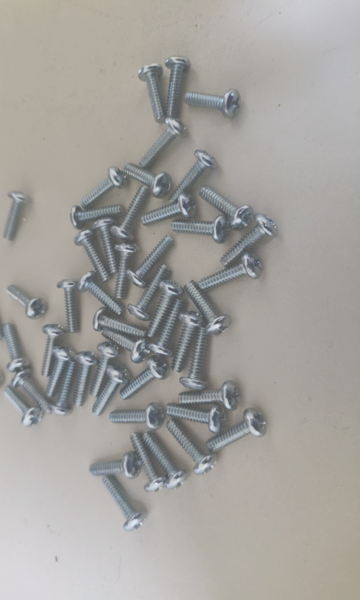shortscrew: (221, 213, 280, 269), (166, 418, 218, 476), (169, 149, 218, 204), (184, 280, 232, 336), (127, 264, 173, 322), (139, 117, 189, 170), (207, 408, 267, 452), (143, 431, 187, 490), (102, 476, 148, 532), (198, 252, 262, 292), (127, 235, 174, 289), (200, 186, 254, 231), (148, 297, 187, 359), (111, 186, 151, 243), (120, 357, 171, 401), (129, 433, 167, 492), (111, 186, 150, 243), (147, 280, 183, 339), (78, 271, 125, 316), (172, 311, 206, 373), (81, 166, 128, 210), (93, 364, 131, 418), (74, 230, 112, 282), (180, 327, 210, 391), (141, 192, 197, 226), (12, 370, 54, 415), (179, 381, 241, 411), (123, 162, 173, 199), (101, 328, 152, 364), (138, 64, 168, 123), (90, 342, 121, 398), (164, 56, 191, 119), (172, 215, 230, 244), (3, 386, 44, 427), (94, 306, 148, 337), (50, 360, 79, 417), (186, 89, 242, 118), (2, 191, 33, 242), (113, 243, 140, 301), (109, 403, 166, 430), (7, 285, 48, 320), (73, 352, 99, 407), (90, 452, 142, 479), (41, 324, 67, 378), (70, 205, 124, 230), (3, 324, 31, 372), (94, 218, 118, 274), (57, 279, 81, 333), (0, 295, 5, 341), (0, 369, 5, 391)
